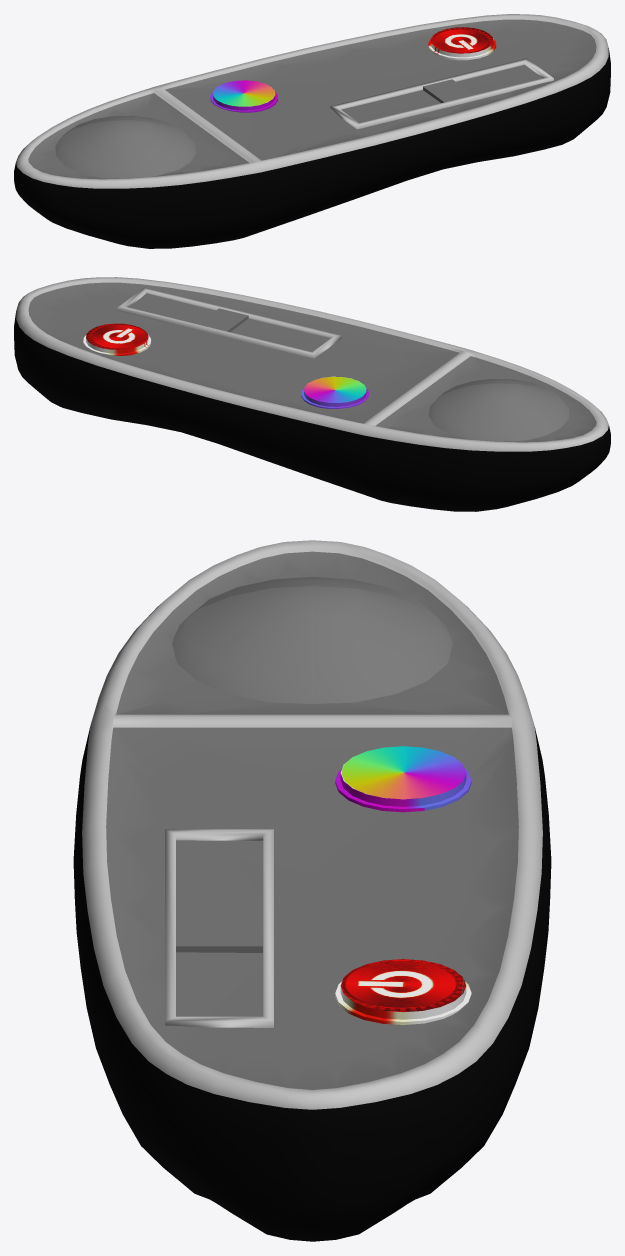
File: remoteControl.fbx
3 views of the same model, one above another, from view 1: azimuth 30°, elevation 25°; view 2: azimuth 150°, elevation 25°; view 3: azimuth 270°, elevation 25° (orthographic). The views are drawn at different scales.
Visible parts, largest first — view 1: lightRemoteMesh, lightRemote_hueManipulator, lightRemote_onoffButton, lightRemote_hueButton, lightRemote_slider; view 2: lightRemoteMesh, lightRemote_hueManipulator, lightRemote_onoffButton, lightRemote_hueButton, lightRemote_slider; view 3: lightRemoteMesh, lightRemote_hueManipulator, lightRemote_hueButton, lightRemote_onoffButton, lightRemote_slider.
Boxes of the visible parts, left/top/right/bottom form: lightRemoteMesh: left=14, top=14, right=610, bottom=248; lightRemote_hueManipulator: left=55, top=115, right=196, bottom=178; lightRemote_onoffButton: left=428, top=27, right=496, bottom=60; lightRemote_hueButton: left=210, top=80, right=277, bottom=112; lightRemote_slider: left=423, top=79, right=473, bottom=102; lightRemoteMesh: left=14, top=277, right=610, bottom=511; lightRemote_hueManipulator: left=429, top=379, right=569, bottom=441; lightRemote_onoffButton: left=83, top=323, right=151, bottom=355; lightRemote_hueButton: left=301, top=376, right=369, bottom=408; lightRemote_slider: left=197, top=308, right=248, bottom=332; lightRemoteMesh: left=73, top=540, right=551, bottom=1241; lightRemote_hueManipulator: left=172, top=577, right=452, bottom=704; lightRemote_hueButton: left=335, top=746, right=471, bottom=812; lightRemote_onoffButton: left=335, top=959, right=471, bottom=1024; lightRemote_slider: left=176, top=917, right=262, bottom=952.
Bounding box in the file's own units: 14.77 × 2.73 × 5.25.
Materials: 7 (2 with a texture image).
